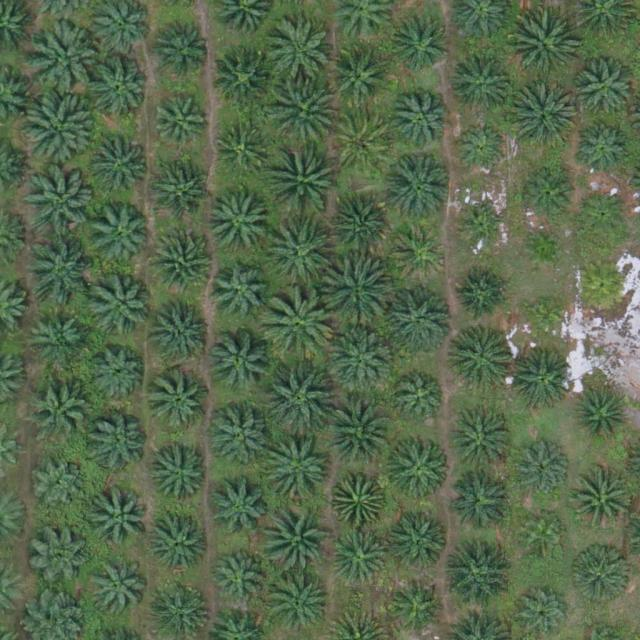Healthy: (265, 436, 336, 507), (262, 220, 333, 291), (264, 19, 335, 90), (24, 236, 94, 307), (262, 501, 332, 572), (264, 290, 334, 361), (328, 325, 398, 396), (323, 396, 393, 467), (441, 540, 511, 611), (508, 81, 578, 152), (509, 11, 579, 82), (384, 152, 454, 223), (269, 141, 339, 212), (268, 77, 338, 148), (23, 94, 93, 165), (31, 22, 102, 92), (265, 570, 335, 640), (265, 364, 335, 434), (320, 258, 390, 328), (384, 284, 454, 354), (27, 167, 97, 237), (27, 306, 90, 369), (29, 376, 92, 439), (85, 412, 148, 475), (87, 558, 150, 621), (149, 370, 212, 433), (154, 299, 217, 362), (210, 262, 273, 325), (209, 331, 272, 394), (450, 469, 513, 532), (570, 469, 633, 532), (450, 53, 513, 116), (389, 89, 452, 152), (332, 112, 395, 175), (214, 47, 277, 110), (29, 524, 91, 587), (88, 203, 150, 266), (92, 486, 154, 549), (148, 513, 210, 576), (150, 442, 212, 505), (150, 230, 212, 293), (209, 404, 271, 467), (206, 478, 268, 541), (329, 196, 392, 258), (389, 513, 451, 576), (388, 435, 450, 498), (452, 413, 514, 476), (509, 349, 571, 412), (573, 58, 635, 121), (329, 44, 391, 107), (151, 160, 213, 223), (88, 56, 150, 119), (87, 134, 149, 197), (91, 277, 153, 339), (207, 194, 269, 256), (450, 326, 512, 388), (571, 544, 633, 606), (154, 17, 216, 79), (576, 187, 631, 242), (32, 458, 87, 513), (212, 549, 267, 604), (332, 471, 387, 526), (334, 529, 389, 584), (393, 576, 448, 631), (395, 373, 450, 428), (518, 585, 573, 640), (454, 123, 509, 178), (393, 18, 448, 73), (214, 122, 269, 177), (153, 98, 208, 153), (393, 226, 447, 281), (91, 346, 145, 401), (455, 266, 509, 321), (516, 439, 570, 494), (575, 389, 629, 444), (577, 122, 631, 177), (520, 168, 574, 223)
Small: (520, 225, 567, 273), (461, 207, 508, 254), (521, 511, 568, 558), (522, 293, 569, 340)
Yellow: (576, 257, 631, 313)
